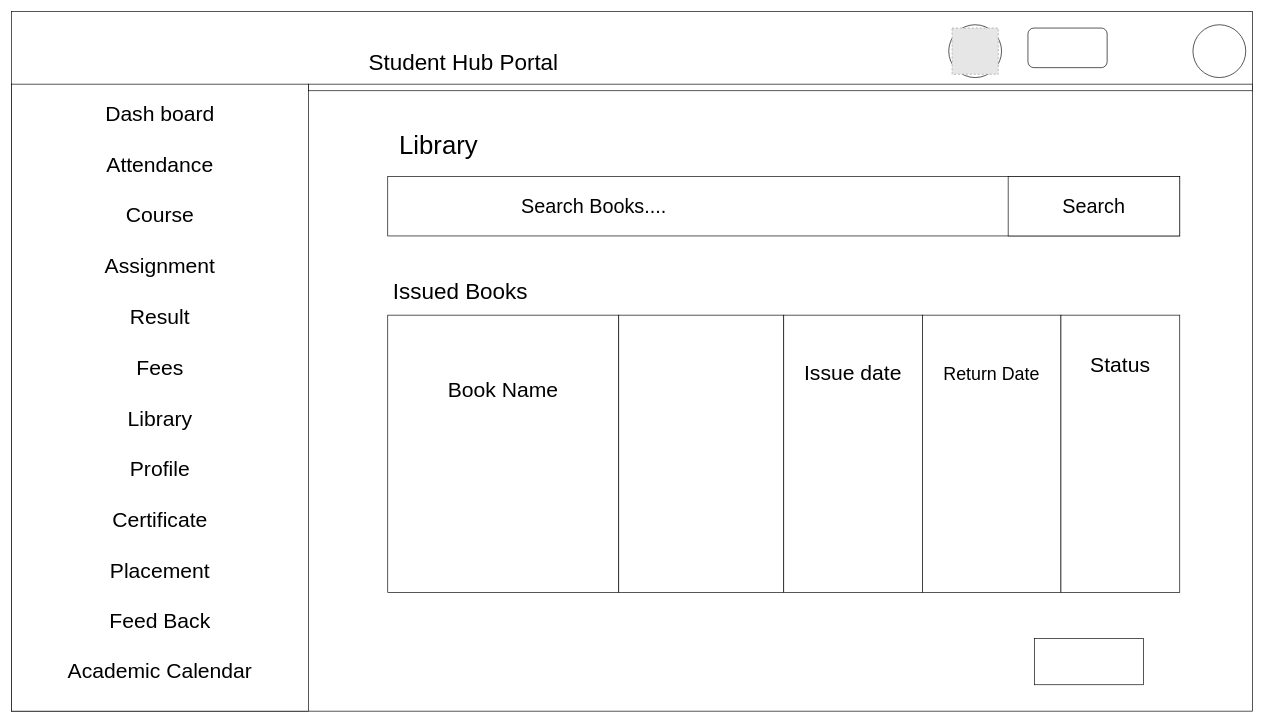
Some shapes in this 1264 by 723 pixel diagram are drawn without their labels. Grey dashed boxes stand in for pictures. Each missing label, with the centre of its shape:
"Author" goes at (x=701, y=453).
"Name" goes at (x=1067, y=47).
"Setting" goes at (x=1219, y=51).
"View All" goes at (x=1088, y=661).
